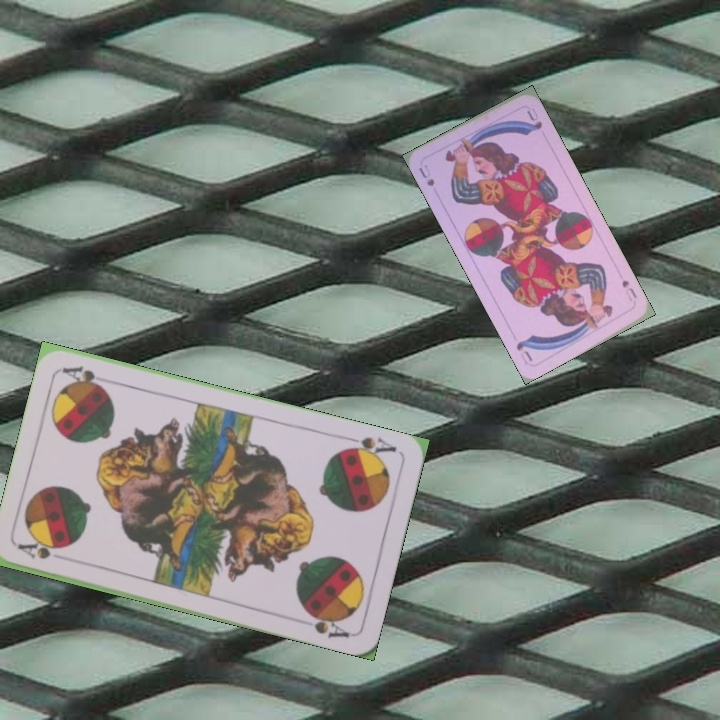SA: (339, 432, 400, 462), (15, 538, 65, 562)
SU: (414, 160, 437, 189), (618, 276, 640, 304)
